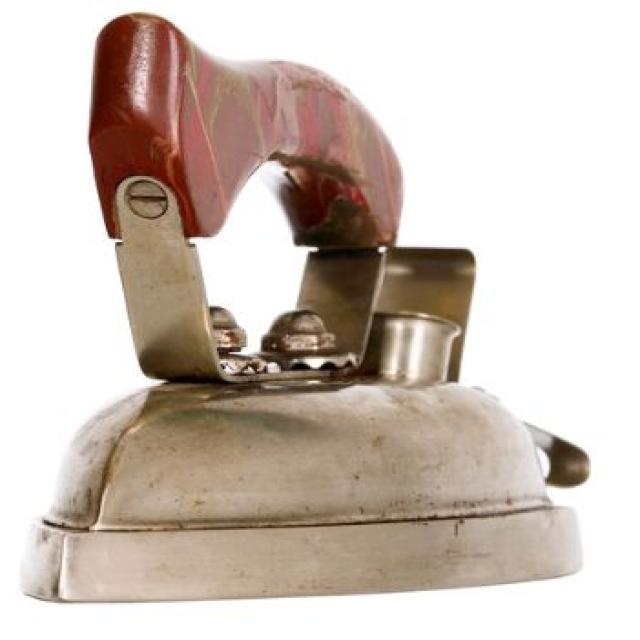electronic: (16, 10, 591, 603)
